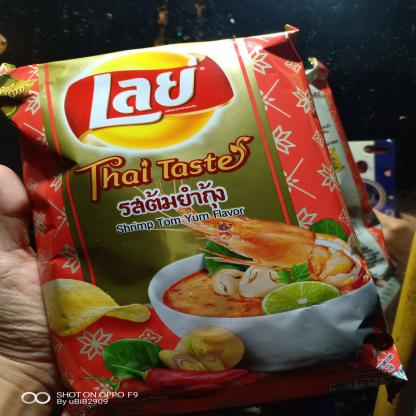potatochip: (0, 13, 416, 415)
